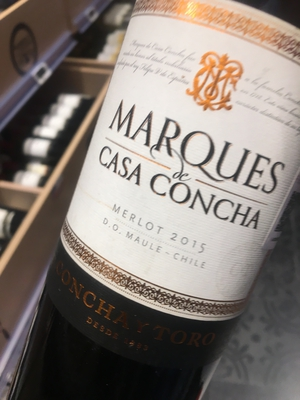marques de casa concha merlot: (49, 10, 300, 379)
